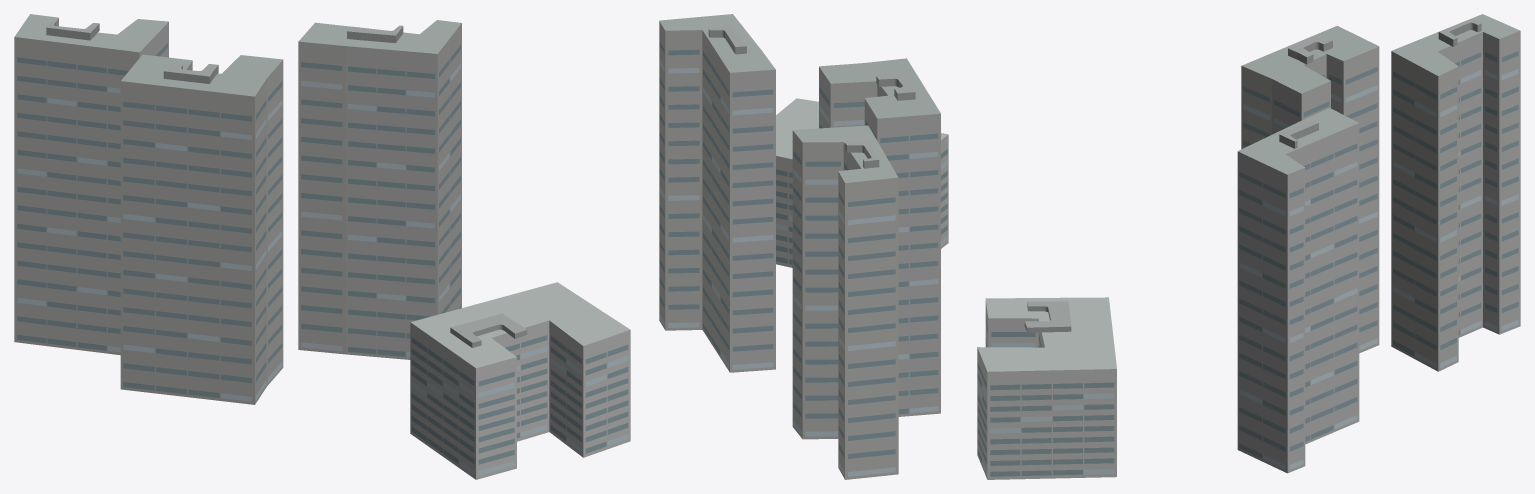
The model's file is apt-a10025765.glb.
3 views of the same model, side by side, from view 1: azimuth 30°, elevation 25°; view 2: azimuth 150°, elevation 25°; view 3: azimuth 270°, elevation 25° (orthographic). The views are drawn at different scales.
Visible parts, largest first — view 1: apt-a10025765; view 2: apt-a10025765; view 3: apt-a10025765.
Part boxes in pixels (x1,y1,x2,y2): apt-a10025765: (14,14,630,479); apt-a10025765: (659,14,948,479); apt-a10025765: (977,14,1520,479).
Bounding box in the file's own units: 119 × 100 × 161.
